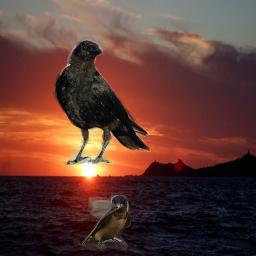Crow: (53, 39, 151, 165)
Swallow: (82, 195, 131, 251)
